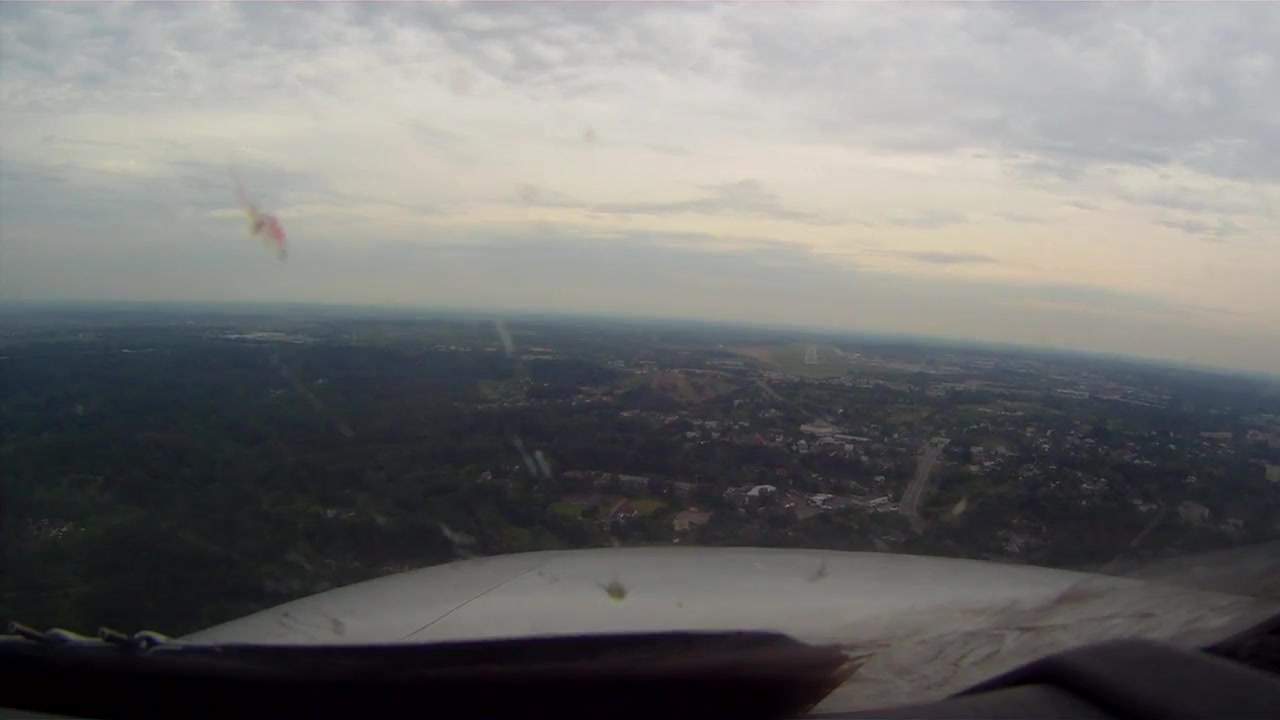runway: (802, 345, 820, 365)
